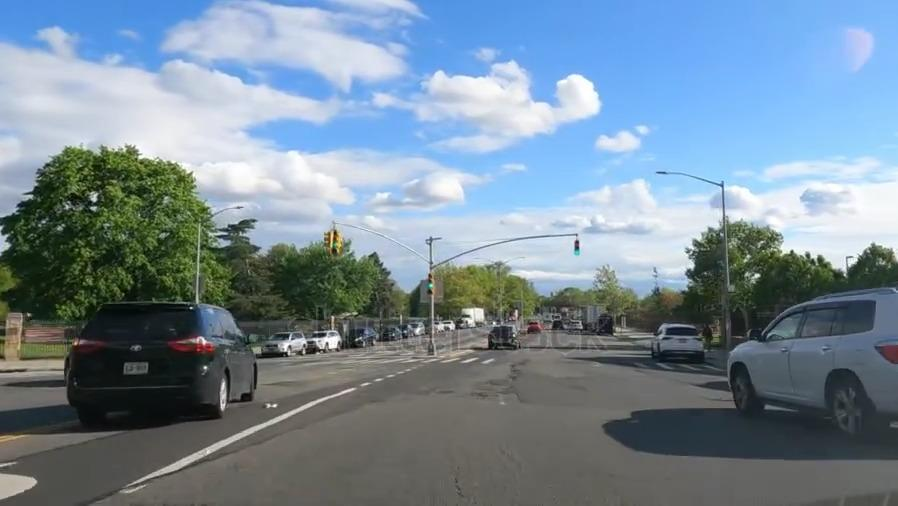car: (67, 290, 260, 419), (722, 294, 898, 427), (650, 316, 702, 362), (269, 329, 307, 357), (488, 323, 520, 349), (312, 327, 336, 352), (348, 327, 376, 347), (529, 319, 541, 335)
pedestrian: (263, 348, 724, 372)
person: (699, 322, 715, 352)
rubbish: (257, 395, 282, 415)
traffic light: (316, 223, 349, 258), (424, 267, 437, 300), (569, 231, 583, 256)
wheel: (825, 371, 867, 431), (728, 361, 760, 417)
